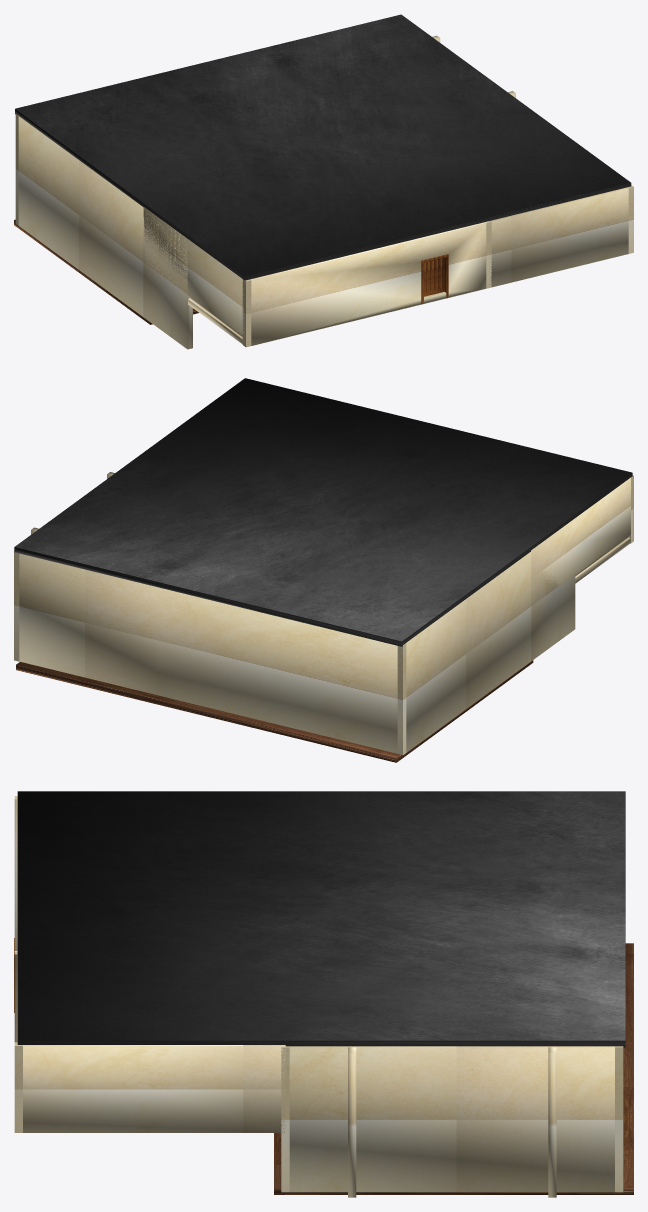
The model's file is club_map_2.fbx.
3 renders of one model, top to bottom at view 1: azimuth 30°, elevation 25°; view 2: azimuth 150°, elevation 25°; view 3: azimuth 270°, elevation 25°, orthographic. The views are drawn at different scales.
Visible parts, largest first — view 1: Box02, Wall03, PivotDoor14, Box03; view 2: Box02, Wall03, Box03; view 3: Box02, Wall03, Box03.
Boxes of the visible parts, x1,y1,x2,y2 form: Box02: (15,14,631,280); Wall03: (15,35,633,349); PivotDoor14: (421,254,448,304); Box03: (14,219,198,324); Box02: (14,378,632,646); Wall03: (14,472,633,755); Box03: (16,660,533,762); Box02: (17,791,625,1047); Wall03: (14,796,623,1197); Box03: (274,943,633,1194).
Size of the model in its own units: 36250 by 10428 by 37194.
